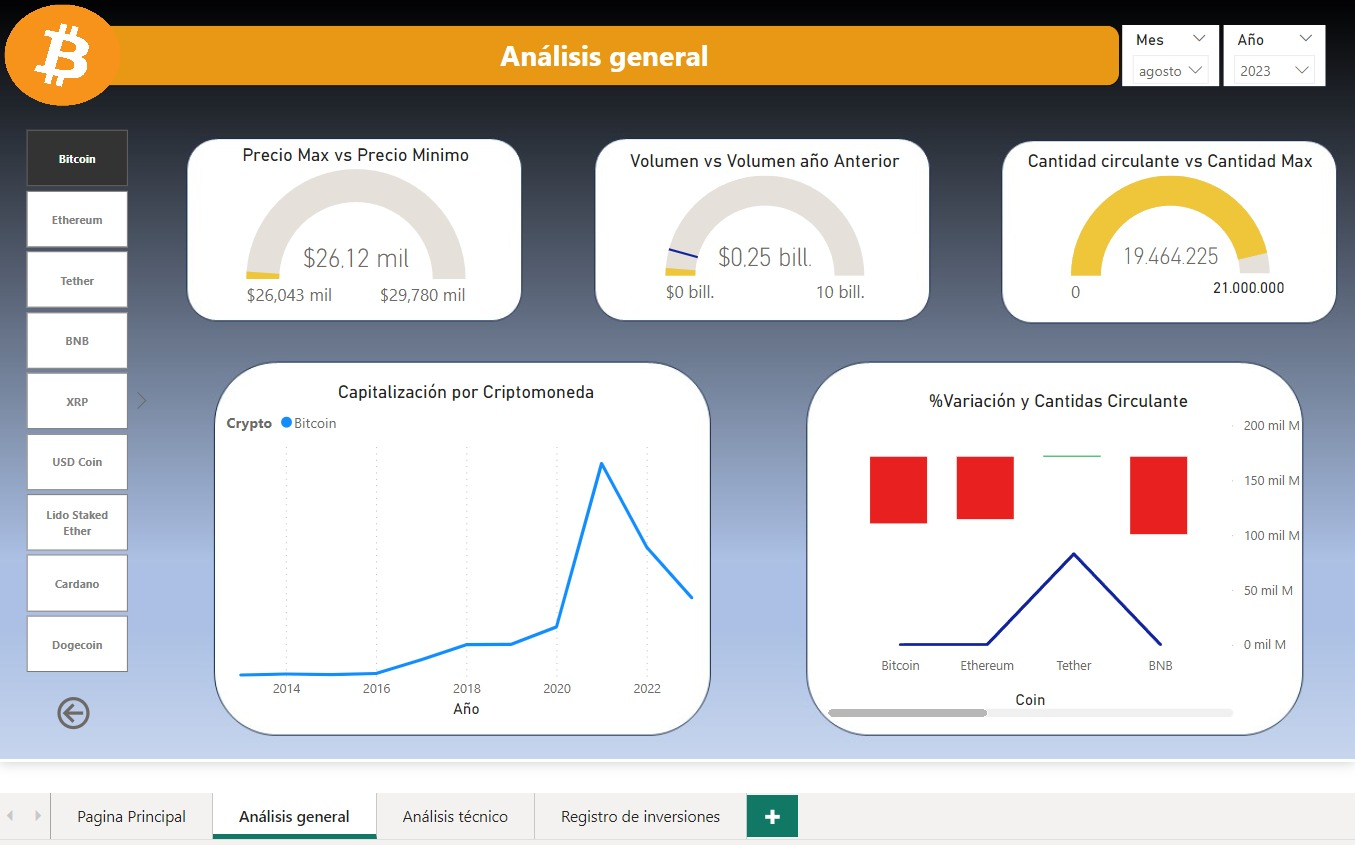

This screenshot's page, from the dashboard's own definition file:
{"tool":"powerbi","page":{"name":"Análisis general ","canvas":[1280,720],"ordinal":1},"visuals":[{"type":"lineChart","title":"Capitalización por Criptomoneda","fields":{"Category":["df.Timestamp.Variación.Jerarquía de fechas.Año","df.Timestamp.Variación.Jerarquía de fechas.Mes"],"Y":["Sum(df.Market Cap)"],"Series":["df.Crypto"]},"box":[209.8,360.6,461.9,322],"z":0},{"type":"lineClusteredColumnComboChart","title":"%Variación y Cantidas Circulante","fields":{"Category":["top_crypto_df.Coin"],"Y":["Medidas.var"],"Y2":["Sum(top_crypto_df.Circulating Supply)"]},"box":[766.8,369.6,466.1,313.2],"z":1000},{"type":"gauge","title":"Cantidad circulante vs Cantidad Max","fields":{"MaxValue":["Sum(top_crypto_df.Max Supply)"],"Y":["Sum(top_crypto_df.Circulating Supply)"]},"box":[957.6,143.5,294.3,153.2],"z":2000},{"type":"gauge","title":"Precio Max vs Precio Minimo ","fields":{"MaxValue":["Medidas.Max Precio"],"MinValue":["Medidas.Min precio"],"Y":["Sum(top_crypto_df.Current Price (USD))"]},"box":[186.9,137.5,300.3,162.8],"z":3000},{"type":"gauge","title":"Volumen vs Volumen año Anterior","fields":{"Y":["Medidas.SumaVolumen"],"MaxValue":["Medidas.V.A.A"],"TargetValue":["Medidas.V.M.A.A"]},"box":[576.5,143.5,291.9,153.2],"z":4000},{"type":"slicer","fields":{"Values":["df.Timestamp.Variación.Jerarquía de fechas.Año"]},"box":[1155.2,25.1,96.5,57.6],"z":5000},{"type":"card","fields":{"Values":["Medidas.Cant circulante"]},"box":[1104.7,259.3,147.1,27.7],"z":6000},{"type":"textbox","box":[90.2,25.1,967.3,57.6],"z":7000},{"type":"image","box":[0,0,119.4,106.1],"z":8000},{"type":"slicer","fields":{"Values":["df.Timestamp.Variación.Jerarquía de fechas.Mes"]},"box":[1060,25.1,91.5,57.6],"z":9000},{"type":"slicer","fields":{"Values":["top_crypto_df.Coin"]},"box":[0,117.1,145.7,525.7],"z":10000},{"type":"actionButton","box":[50.1,654,40.1,40.1],"z":11000}]}

Visuals, with their boxes in screenshot pixels (x1, y1, x2, y2):
"Capitalización por Criptomoneda" lineChart: x1=192, y1=383, x2=692, y2=732
"%Variación y Cantidas Circulante" lineClusteredColumnComboChart: x1=795, y1=393, x2=1299, y2=732
"Cantidad circulante vs Cantidad Max" gauge: x1=1001, y1=148, x2=1320, y2=314
"Precio Max vs Precio Minimo " gauge: x1=167, y1=142, x2=492, y2=318
"Volumen vs Volumen año Anterior" gauge: x1=589, y1=148, x2=905, y2=314
slicer - df.Timestamp.Variación.Jerarquía de fechas.Año: x1=1215, y1=20, x2=1319, y2=82
card - Medidas.Cant circulante: x1=1160, y1=274, x2=1320, y2=304
textbox: x1=62, y1=20, x2=1109, y2=82
image: x1=0, y1=0, x2=94, y2=108
slicer - df.Timestamp.Variación.Jerarquía de fechas.Mes: x1=1112, y1=20, x2=1211, y2=82
slicer - top_crypto_df.Coin: x1=0, y1=120, x2=122, y2=689
actionButton: x1=19, y1=701, x2=62, y2=744
